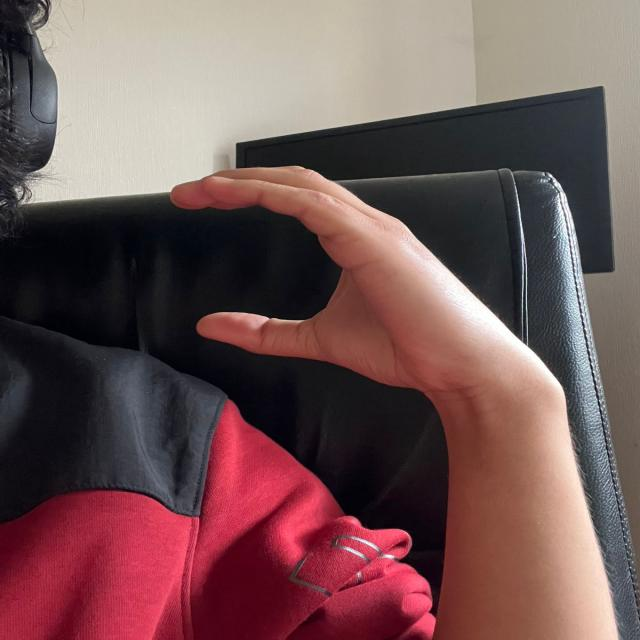C: (159, 158, 520, 399)
